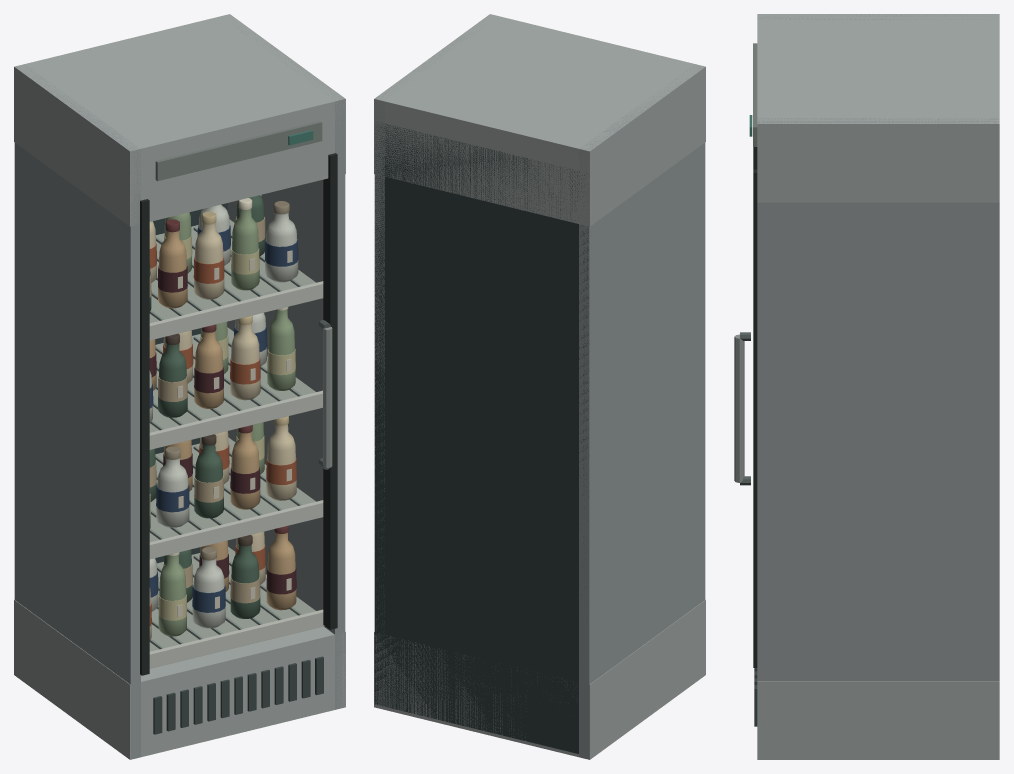
File: damun-cooler.glb
3 renders of one model, left to right at view 1: azimuth 30°, elevation 25°; view 2: azimuth 150°, elevation 25°; view 3: azimuth 270°, elevation 25°, orthographic. The views are drawn at different scales.
Parts seen in each view (by area): view 1: Surface; view 2: Surface; view 3: Surface.
Part boxes in pixels (x1=…): Surface: x1=14, y1=14, x2=345, y2=759; Surface: x1=374, y1=14, x2=705, y2=759; Surface: x1=734, y1=14, x2=999, y2=759.
Bounding box in the file's own units: 0.72 × 1.94 × 0.733.
